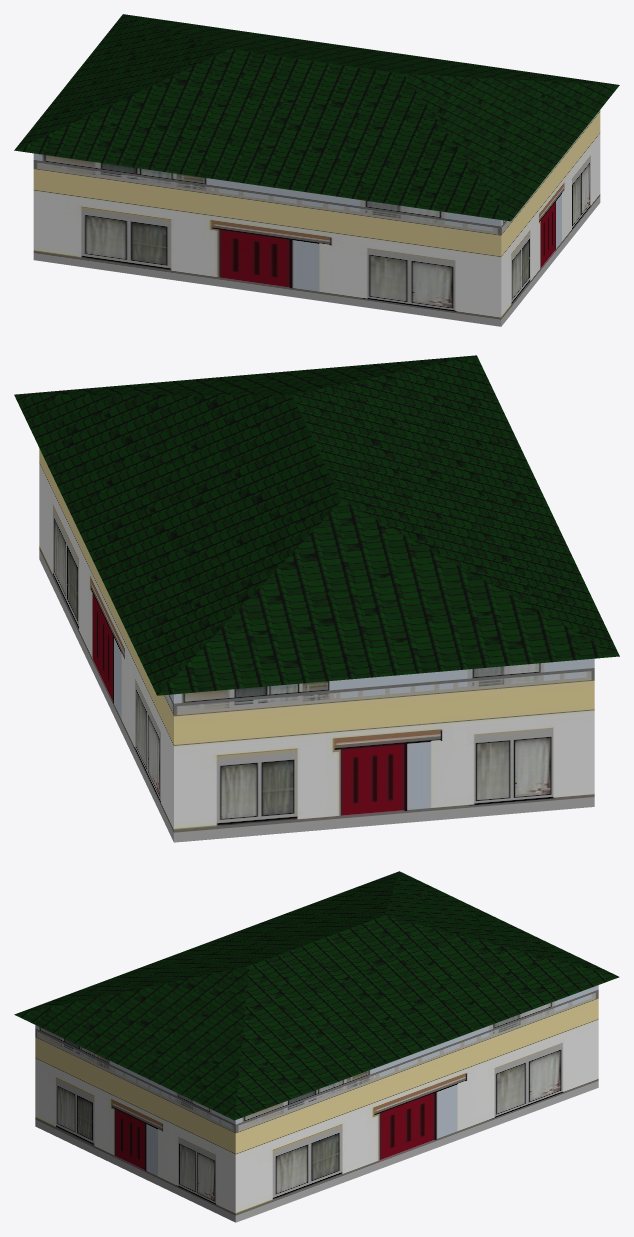
The picture shows the model from 3 angles, top to bottom: view 1: azimuth 30°, elevation 25°; view 2: azimuth 150°, elevation 25°; view 3: azimuth 270°, elevation 25°; orthographic projection. The views are drawn at different scales.
Visible parts, largest first — view 1: CityEngineMaterial_13_m, CityEngineMaterial_15_m; view 2: CityEngineMaterial_13_m, CityEngineMaterial_15_m; view 3: CityEngineMaterial_13_m, CityEngineMaterial_15_m.
Boxes of the visible parts, x1,y1,x2,y2 form: CityEngineMaterial_13_m: (14,14,619,221); CityEngineMaterial_15_m: (33,110,600,326); CityEngineMaterial_13_m: (14,355,619,695); CityEngineMaterial_15_m: (39,448,594,842); CityEngineMaterial_13_m: (14,871,619,1120); CityEngineMaterial_15_m: (35,985,598,1222).
Bounding box in the file's own units: 36.49 × 11.36 × 37.49.
